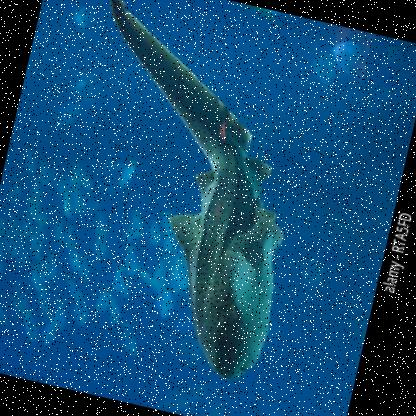zebra_shark: (30, 0, 346, 396)
